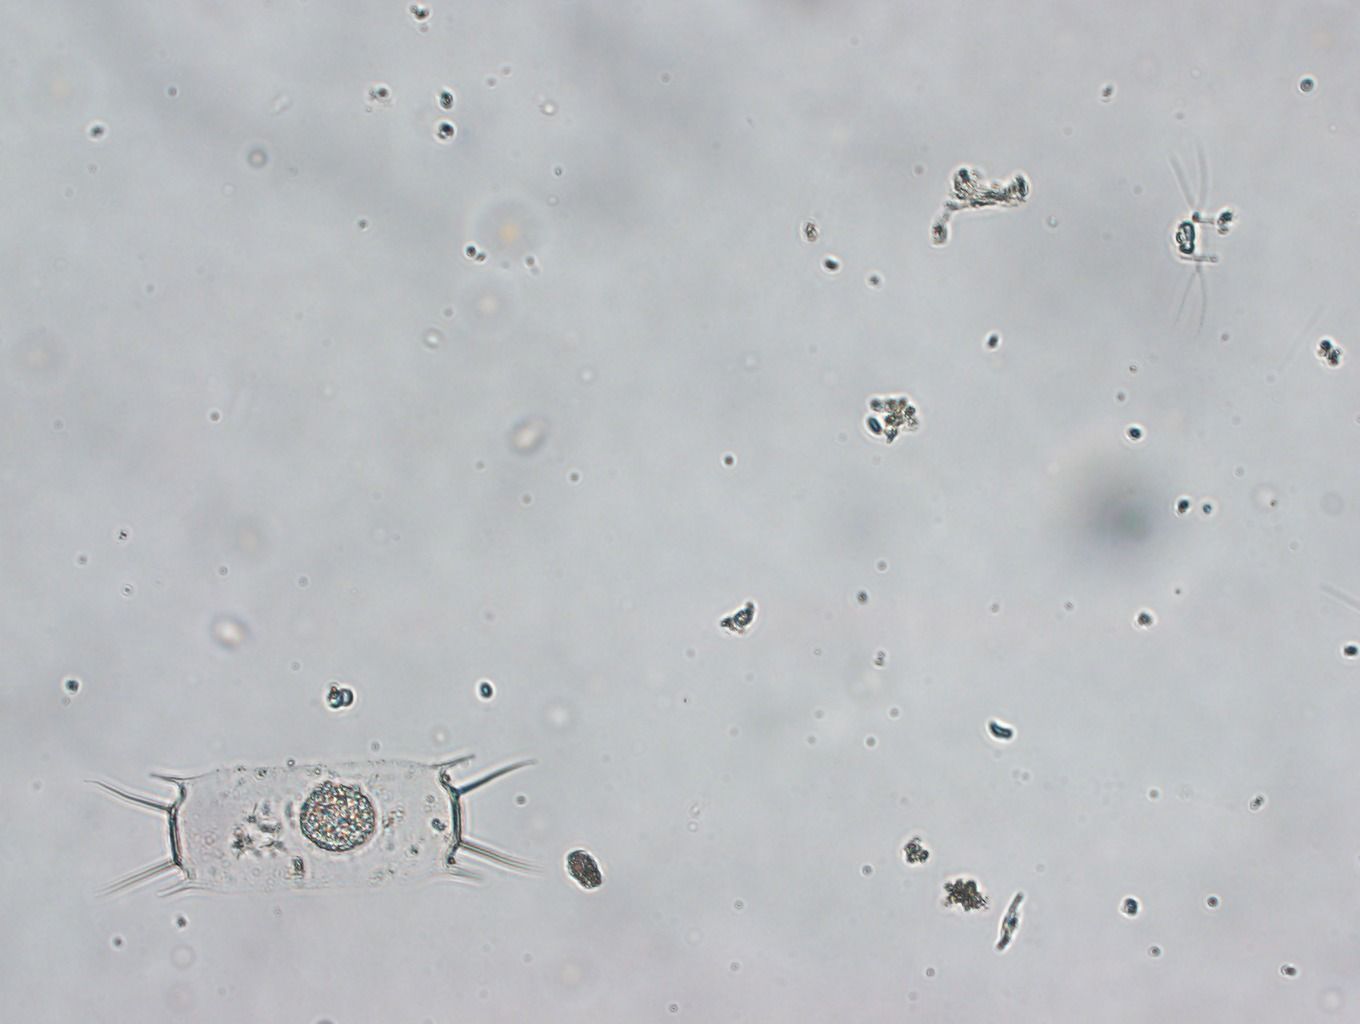biddulphia: (96, 738, 554, 909)
chaetoceros: (1149, 140, 1256, 349)
